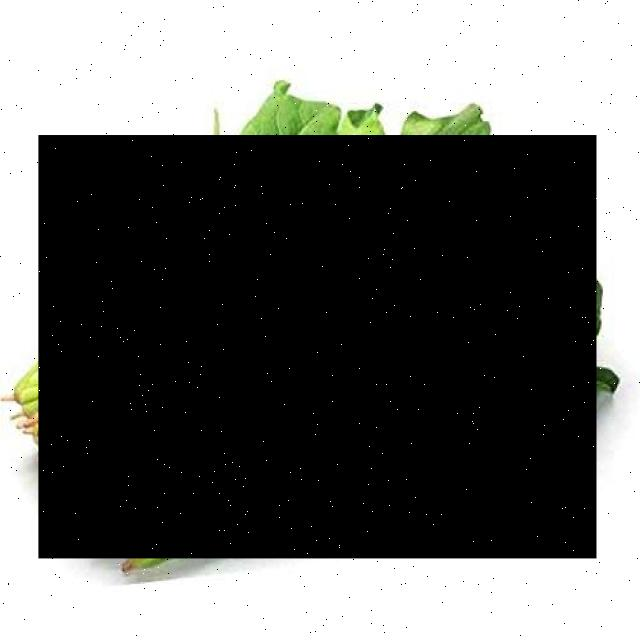Palak: (39, 136, 597, 560)
